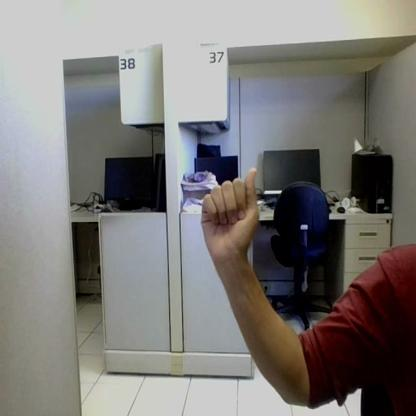A: (202, 168, 260, 257)
